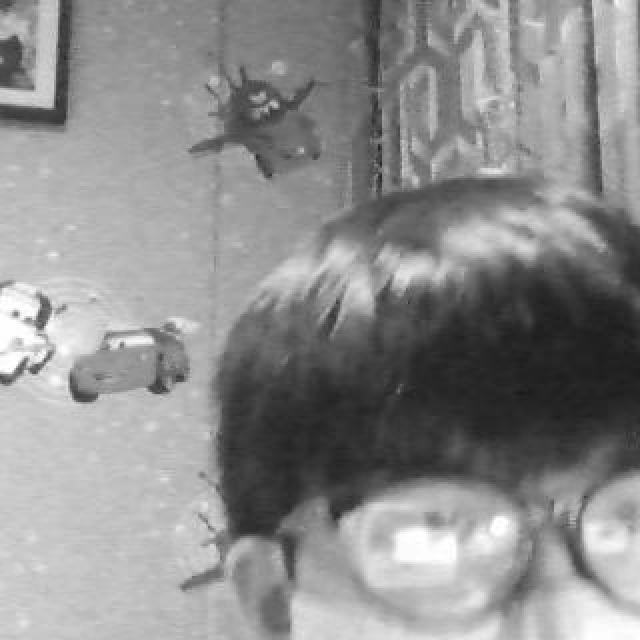Focused: (222, 170, 640, 640)
